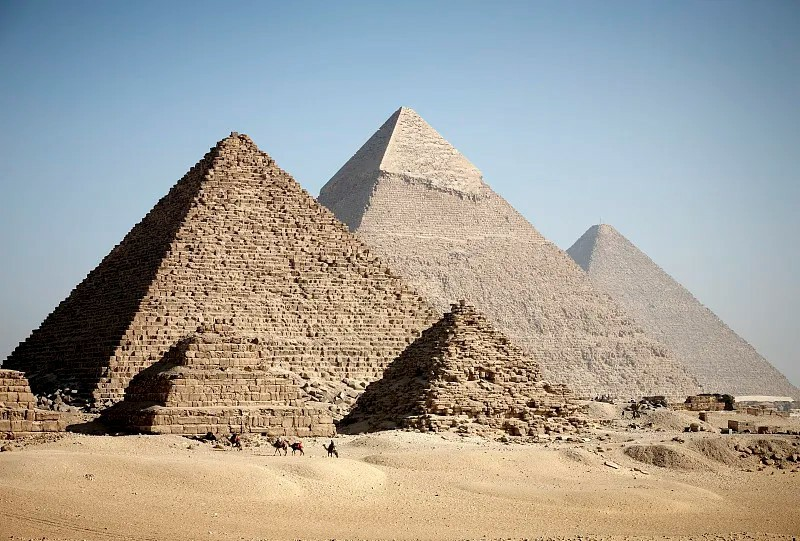Pyramid: (3, 131, 444, 424), (315, 106, 707, 400), (567, 224, 800, 398), (341, 300, 588, 440), (90, 324, 338, 441)
